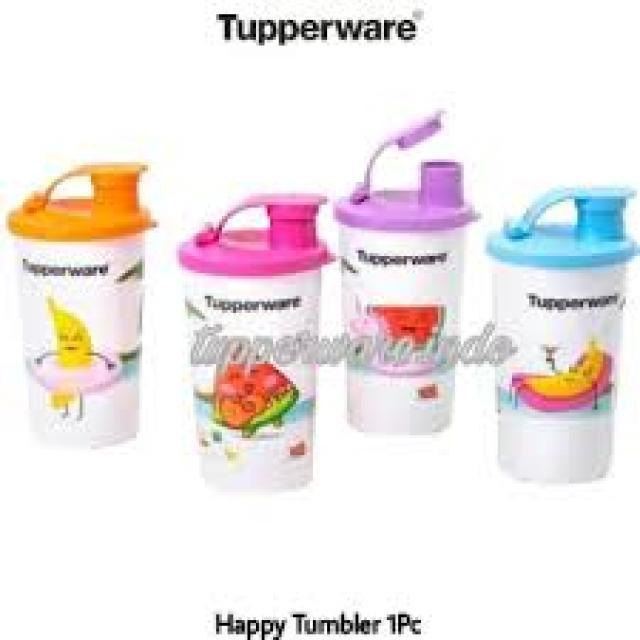good: (330, 100, 480, 445), (184, 167, 334, 502), (490, 146, 632, 488), (12, 137, 154, 465)
